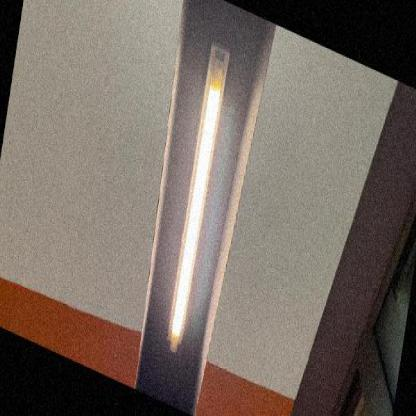light_on: (154, 28, 235, 368)
